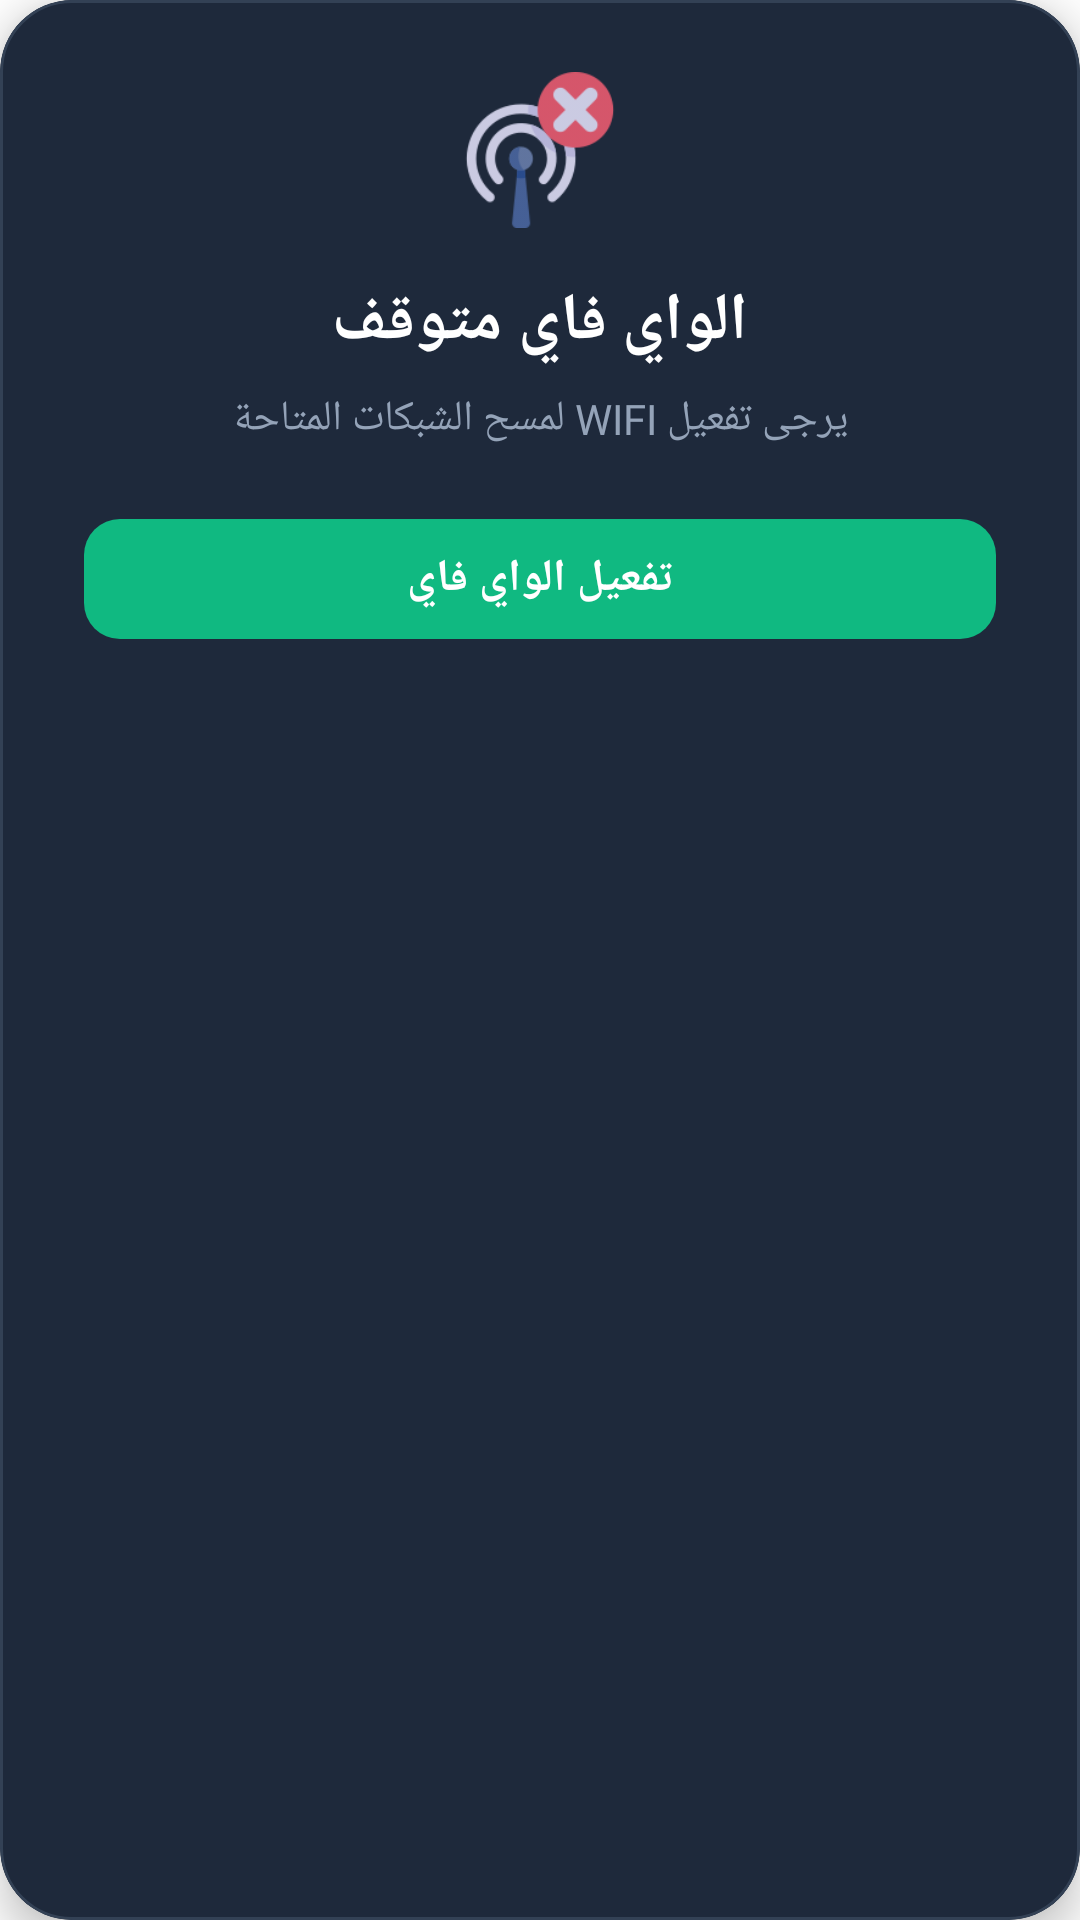

Screen size 1080 × 1920. Icon name, then its center in pixels as point (x, y):
wifi off: point (540, 150)
